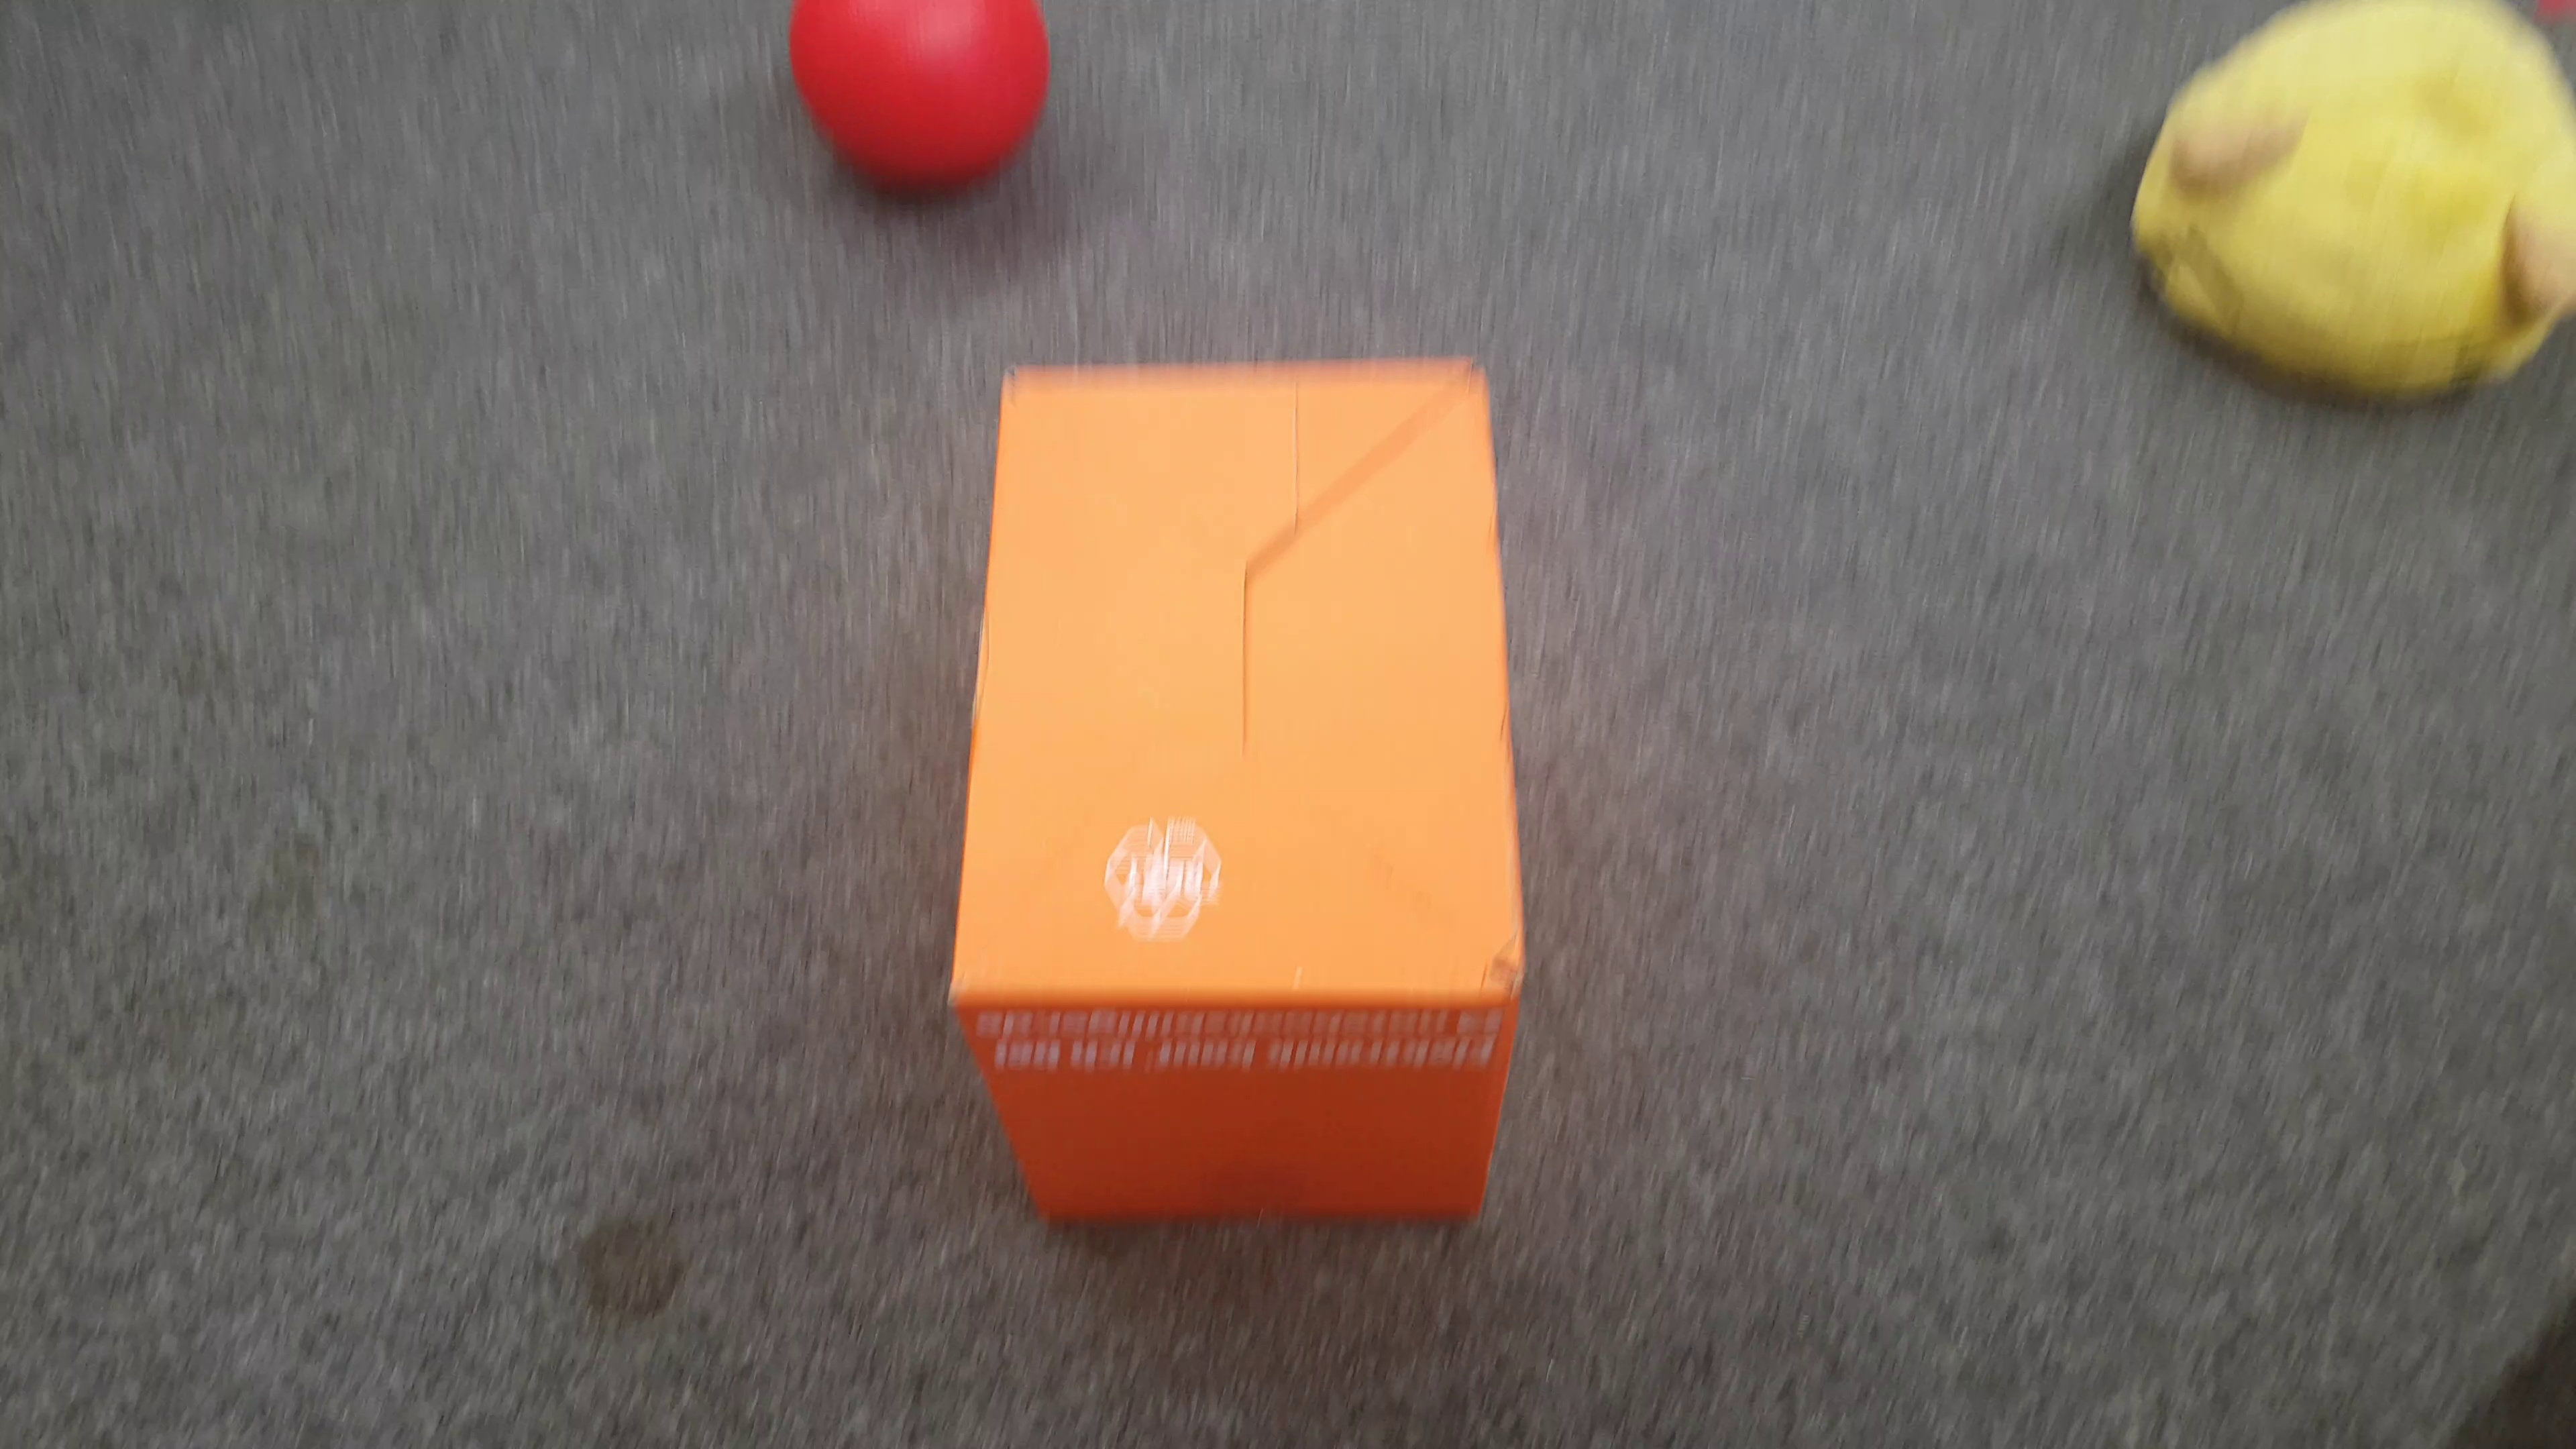grasp: (2137, 5, 2576, 414)
kick: (786, 0, 1058, 193)
push: (947, 361, 1530, 1249)
